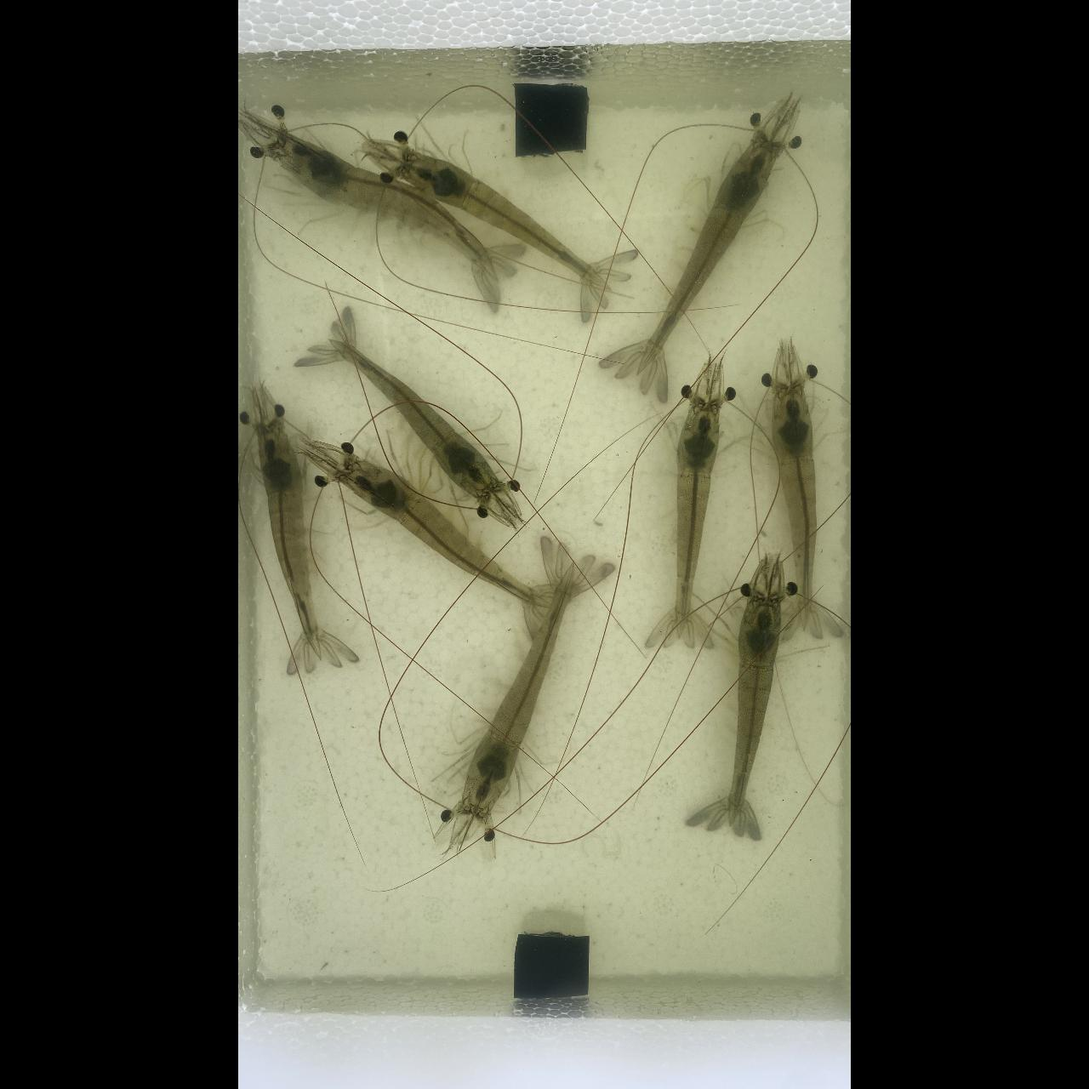box: (514, 83, 589, 156), (514, 933, 589, 998)
top_shrimp: (273, 131, 500, 280), (633, 145, 777, 377), (342, 460, 551, 609), (403, 153, 613, 293), (461, 563, 575, 816), (331, 340, 497, 497), (256, 428, 322, 659), (728, 596, 779, 827), (772, 386, 816, 633), (676, 403, 720, 638)
